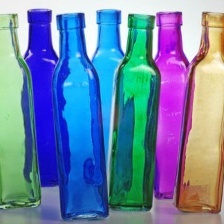bottle: (50, 7, 109, 223), (169, 5, 223, 217), (107, 10, 162, 214), (148, 6, 195, 199), (19, 5, 65, 190), (85, 5, 130, 193), (0, 9, 42, 210)
